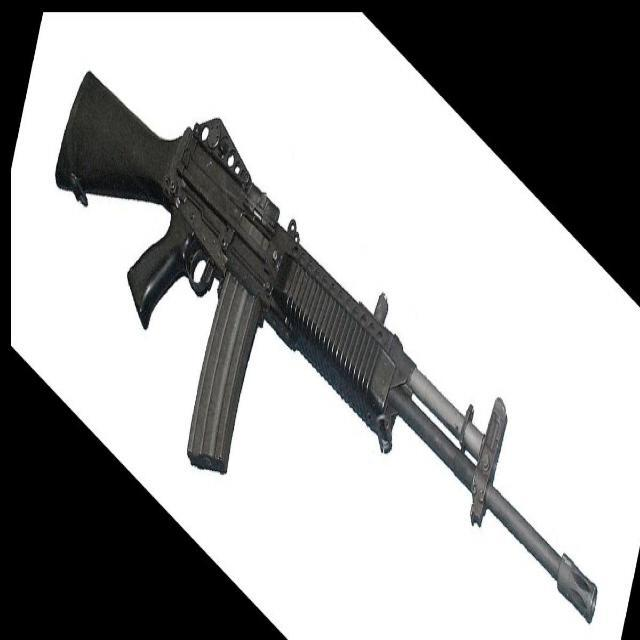weapon: (54, 70, 600, 623)
